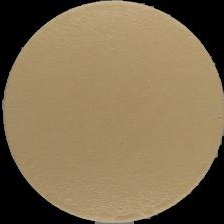54868-4257: (0, 0, 224, 224)
